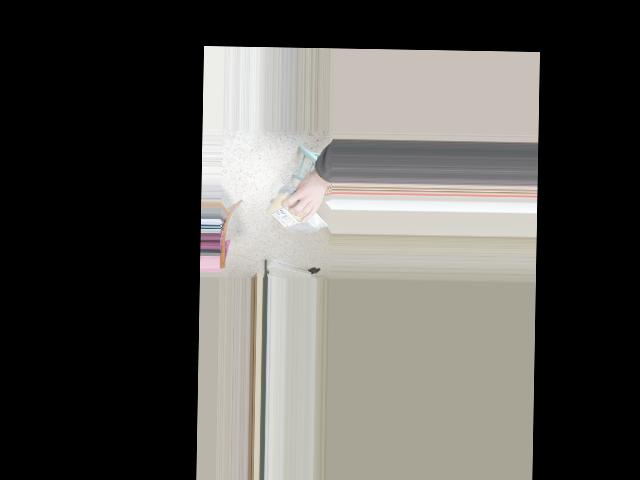cheese: (268, 196, 329, 230)
